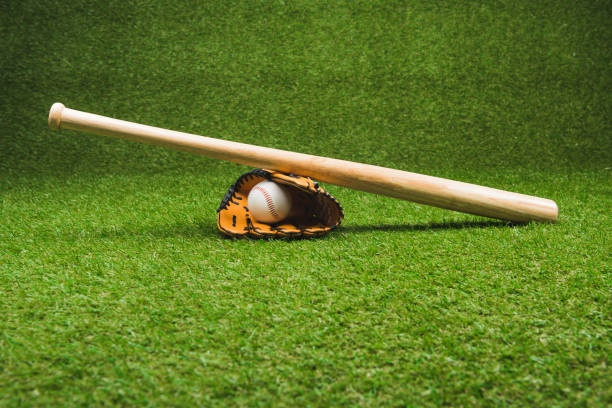bita: (46, 100, 554, 223)
